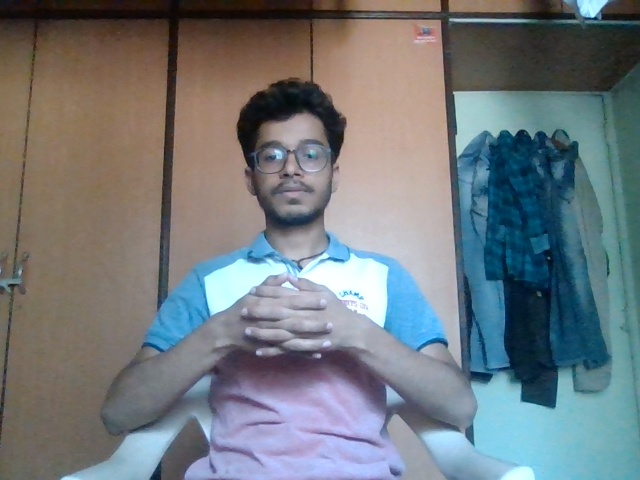good: (230, 263, 357, 377)
